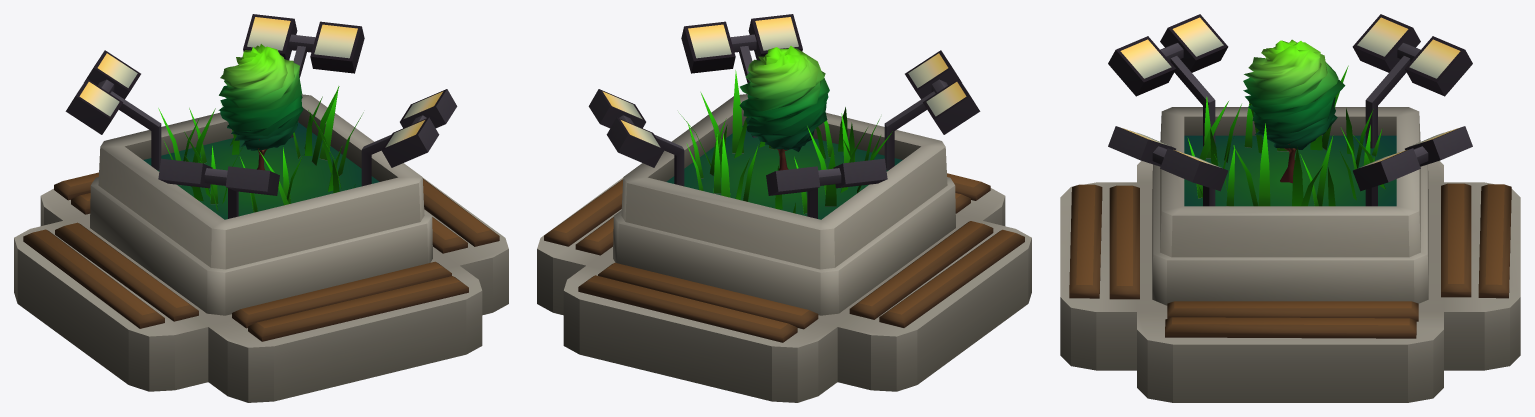
Rendered from tc_bench_2a_indoor.glb.
3 renders of one model, left to right at view 1: azimuth 30°, elevation 25°; view 2: azimuth 150°, elevation 25°; view 3: azimuth 270°, elevation 25°, orthographic. The views are drawn at different scales.
Parts seen in each view (by area): view 1: Bench_2A, Bench_2A_Lights, Bench_2A_Tree; view 2: Bench_2A, Bench_2A_Lights, Bench_2A_Tree; view 3: Bench_2A, Bench_2A_Lights, Bench_2A_Tree.
Part boxes in pixels (<box>): Bench_2A: <box>14,86,508,402</box>; Bench_2A_Lights: <box>65,14,457,218</box>; Bench_2A_Tree: <box>218,44,303,170</box>; Bench_2A: <box>537,70,1031,402</box>; Bench_2A_Lights: <box>588,14,980,218</box>; Bench_2A_Tree: <box>739,46,829,170</box>; Bench_2A: <box>1060,65,1520,402</box>; Bench_2A_Lights: <box>1108,14,1472,206</box>; Bench_2A_Tree: <box>1243,39,1345,183</box>.
Bounding box in the file's own units: 3.79 × 2.4 × 3.79.
Materials: 2 (2 with a texture image).
